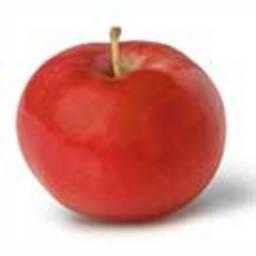apple: (18, 36, 225, 221)
